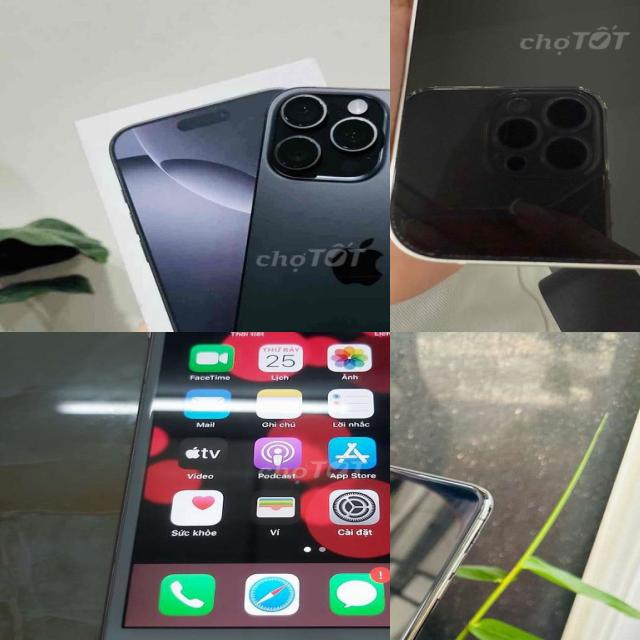gen_14: (390, 0, 640, 274)
gen_16: (208, 84, 390, 332)
gen_6: (92, 332, 390, 640)
gen_x_xs: (390, 465, 492, 640)
